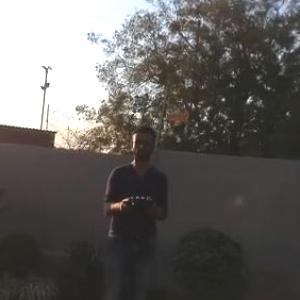follow: (98, 111, 173, 299)
